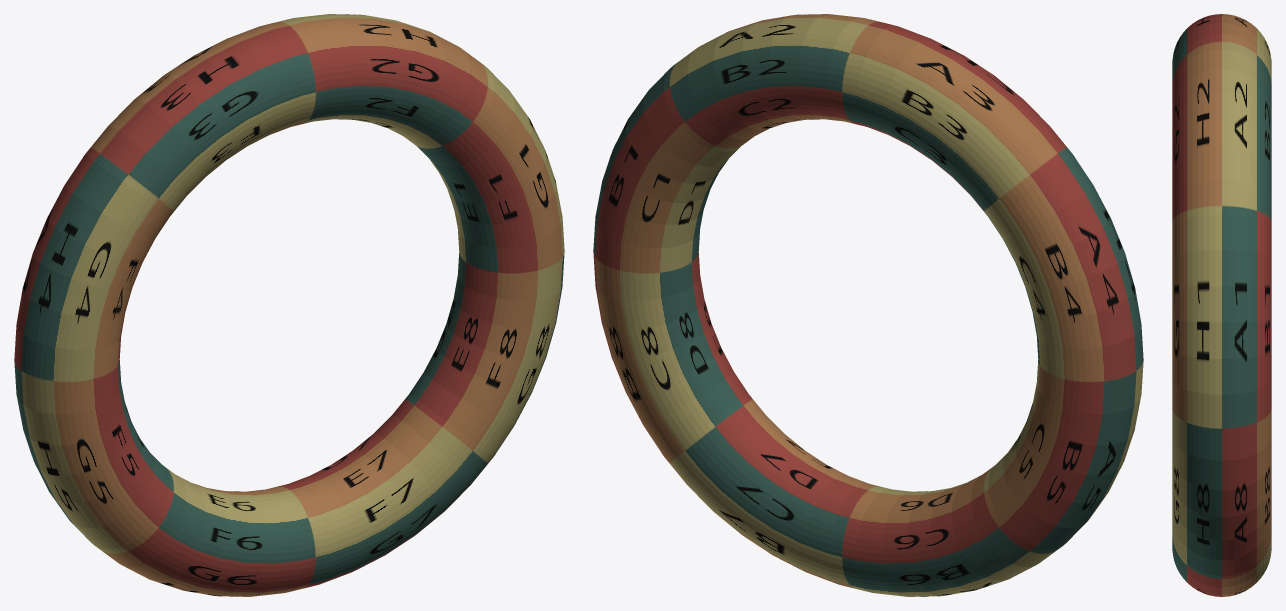
File: texture_torus_R23_r12.glb
3 views of the same model, side by side, from view 1: azimuth 30°, elevation 25°; view 2: azimuth 150°, elevation 25°; view 3: azimuth 270°, elevation 25° (orthographic). The views are drawn at different scales.
Visible parts, largest first — view 1: world; view 2: world; view 3: world.
Boxes of the visible parts, left/top/right/bottom form: world: left=14, top=14, right=564, bottom=596; world: left=593, top=14, right=1143, bottom=596; world: left=1172, top=14, right=1271, bottom=596.
Size of the model in its own units: 30.53 by 30.47 by 5.19.
Materials: 1 (1 with a texture image).
